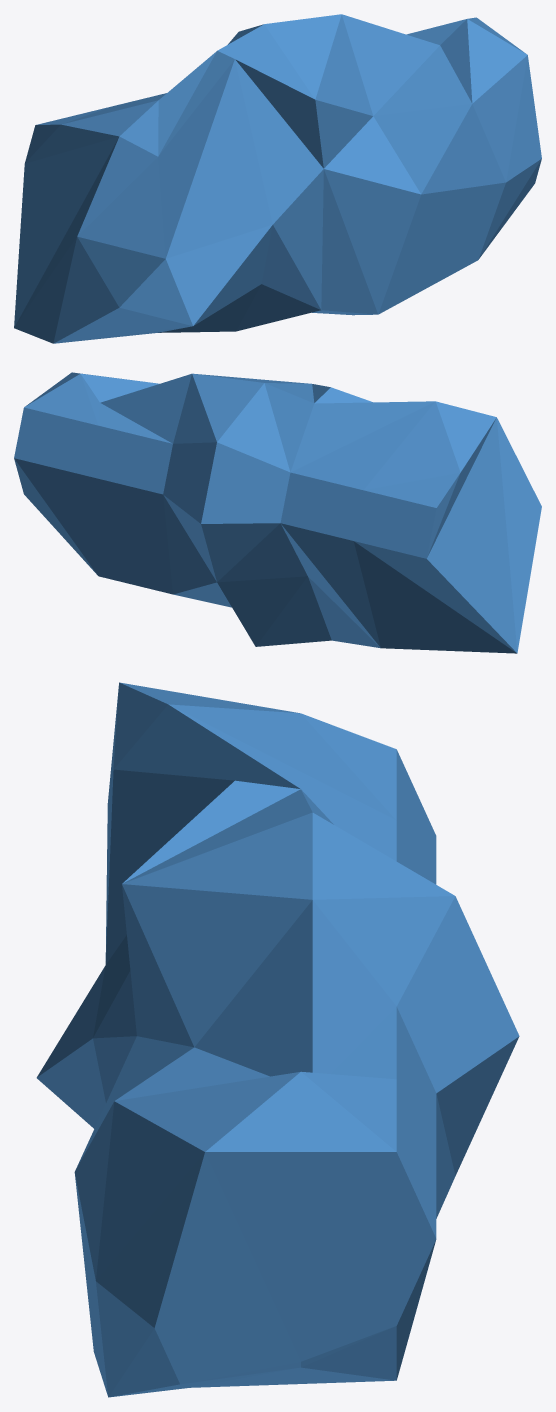
Rendered from bulut3.fbx.
3 renders of one model, top to bottom at view 1: azimuth 30°, elevation 25°; view 2: azimuth 150°, elevation 25°; view 3: azimuth 270°, elevation 25°, orthographic. The views are drawn at different scales.
Parts seen in each view (by area): view 1: Cylinder; view 2: Cylinder; view 3: Cylinder.
Part boxes in pixels (bbox=[...]): Cylinder: bbox=[14, 14, 541, 343]; Cylinder: bbox=[14, 372, 541, 653]; Cylinder: bbox=[36, 682, 519, 1397].
Bounding box in the file's own units: 139 × 77.23 × 62.84.
